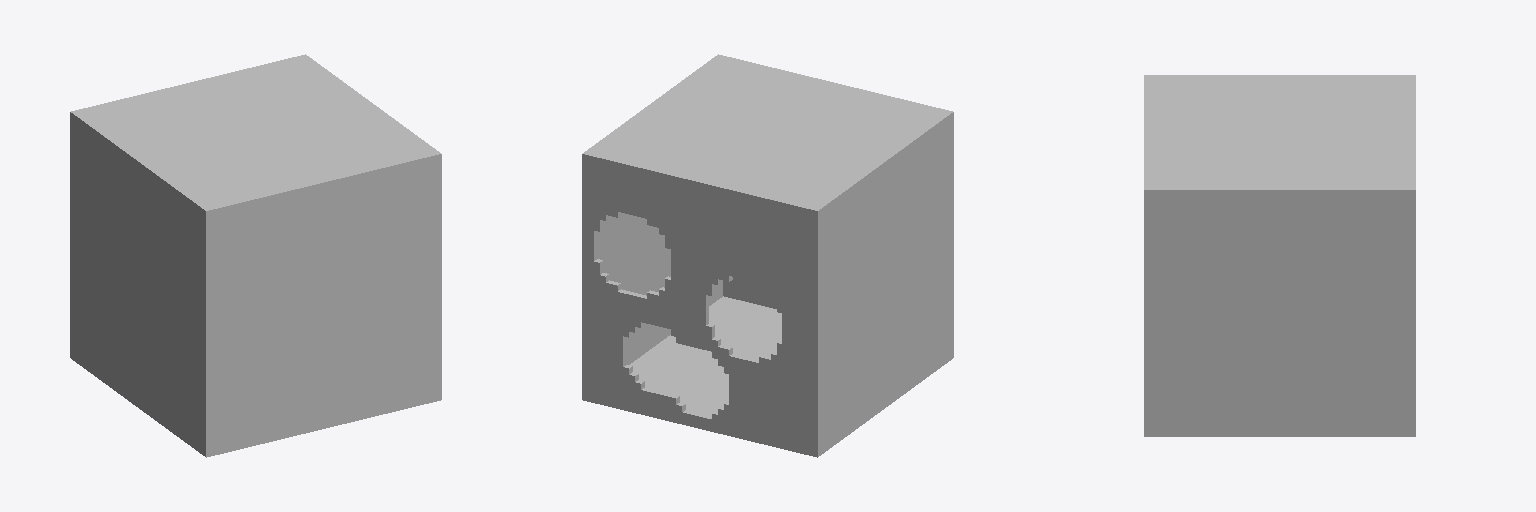
Rendered from Fina Boss.obj.
The picture shows the model from 3 angles: view 1: azimuth 30°, elevation 25°; view 2: azimuth 150°, elevation 25°; view 3: azimuth 270°, elevation 25°; orthographic projection.
Parts seen in each view (by area): view 1: object 1; view 2: object 1; view 3: object 1.
Part boxes in pixels (x1,y1,x2,y2): object 1: (70, 54, 441, 457); object 1: (582, 54, 953, 457); object 1: (1144, 75, 1415, 436).
Bounding box in the file's own units: 4 × 4 × 4.